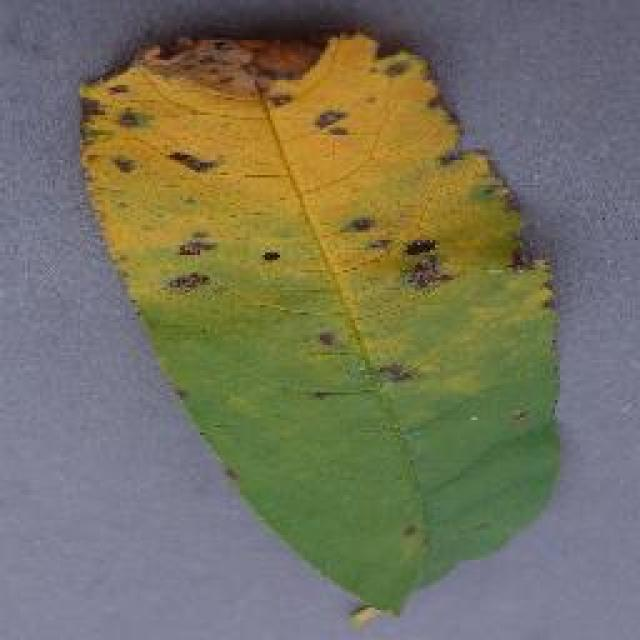Peach_Bacterial_Spot: (115, 35, 557, 435)
